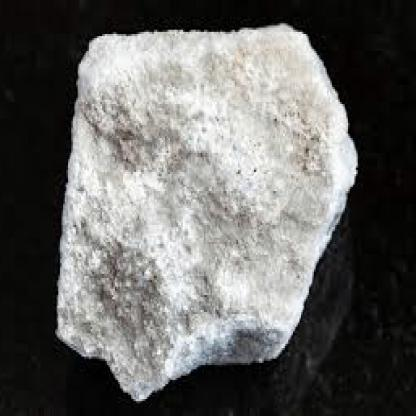Metamorphic_Marble: (34, 17, 363, 405)
